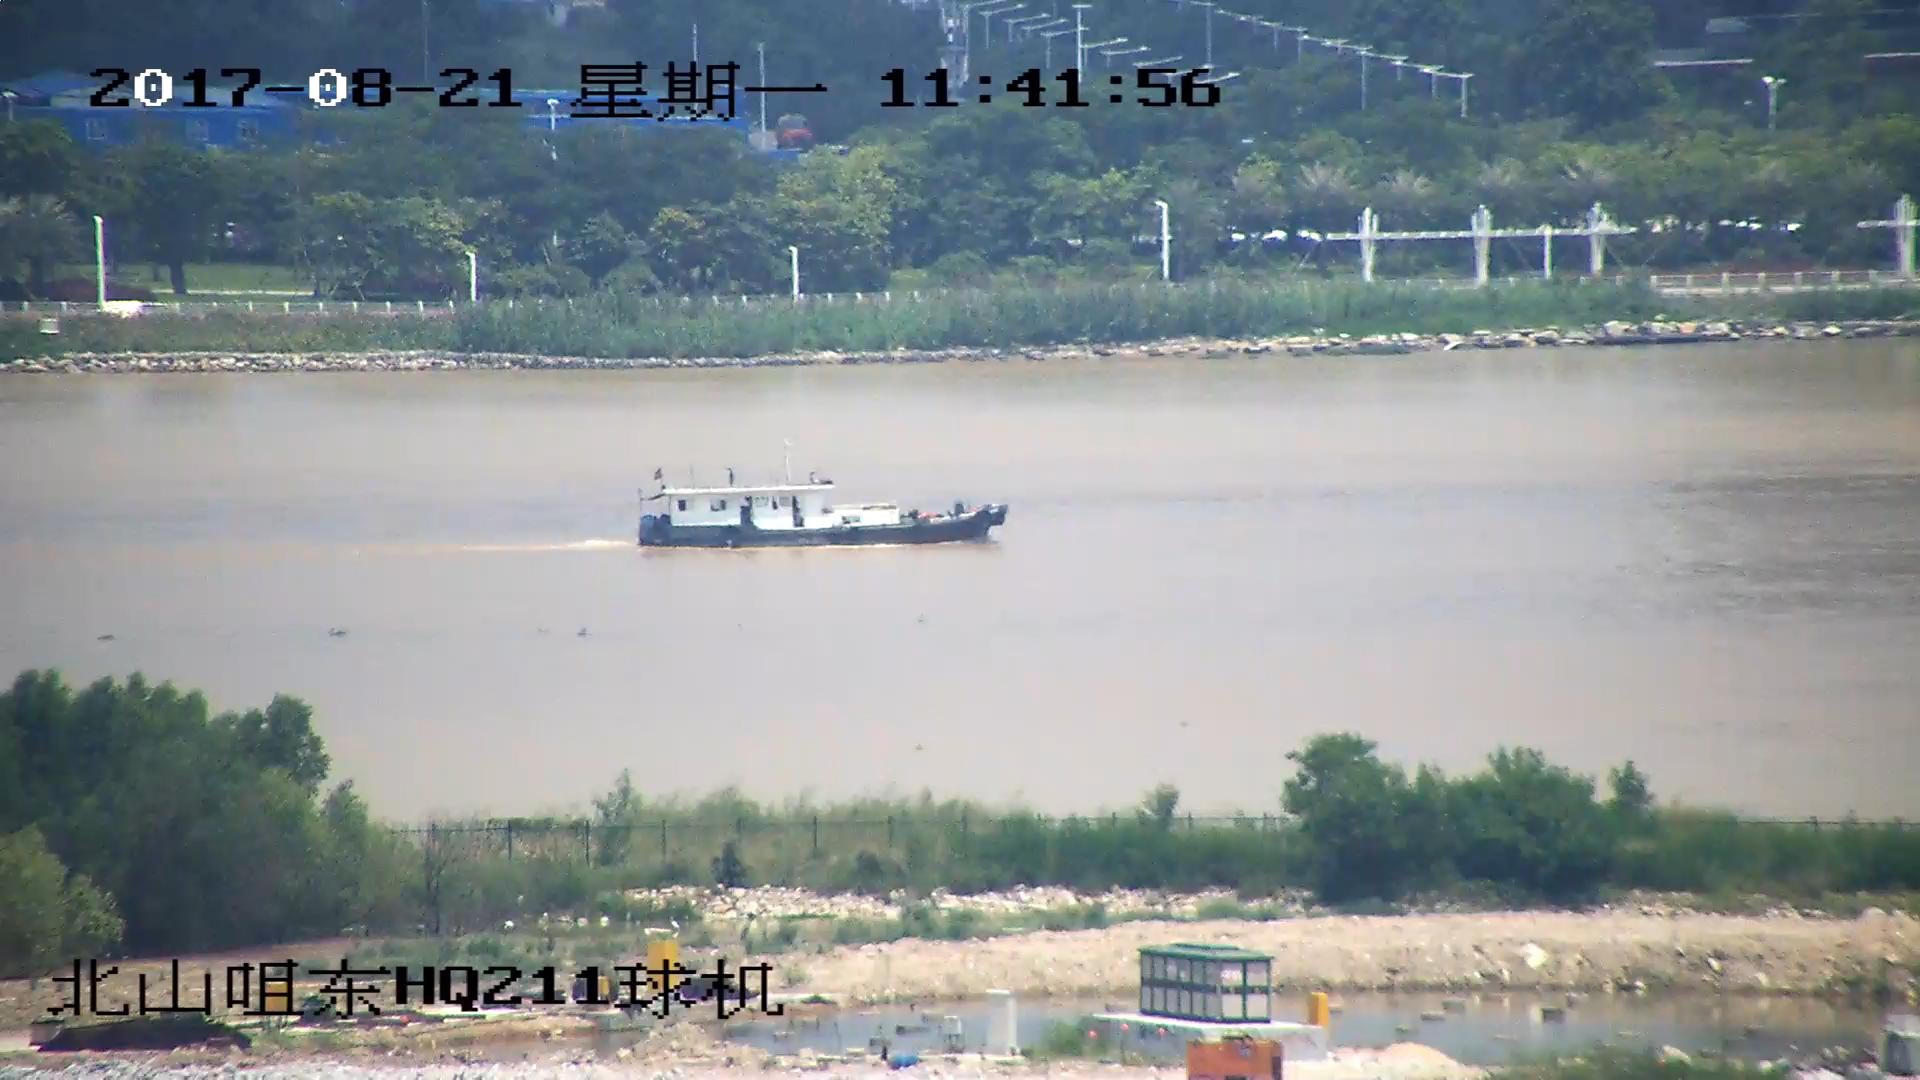fishing boat: (640, 448, 1009, 546)
